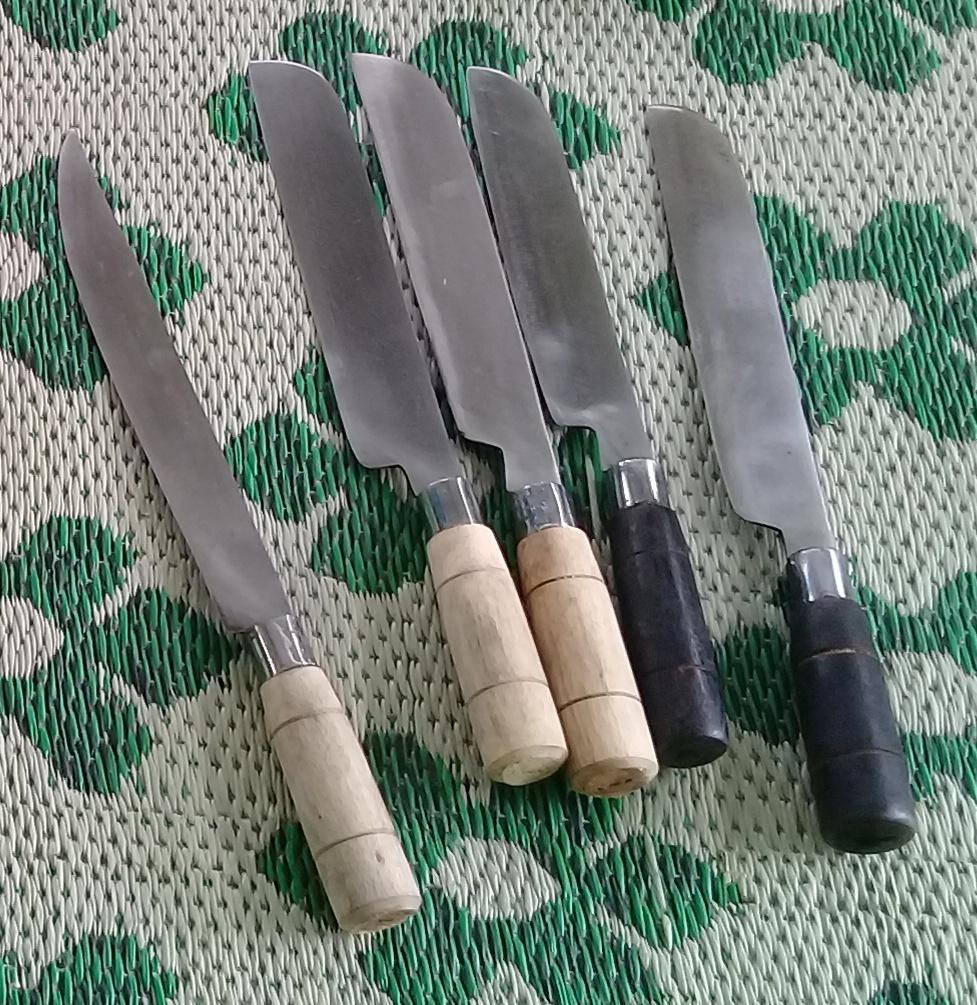facao: (59, 132, 421, 933), (250, 61, 569, 786), (353, 54, 658, 796), (645, 107, 914, 853), (469, 68, 728, 768)
